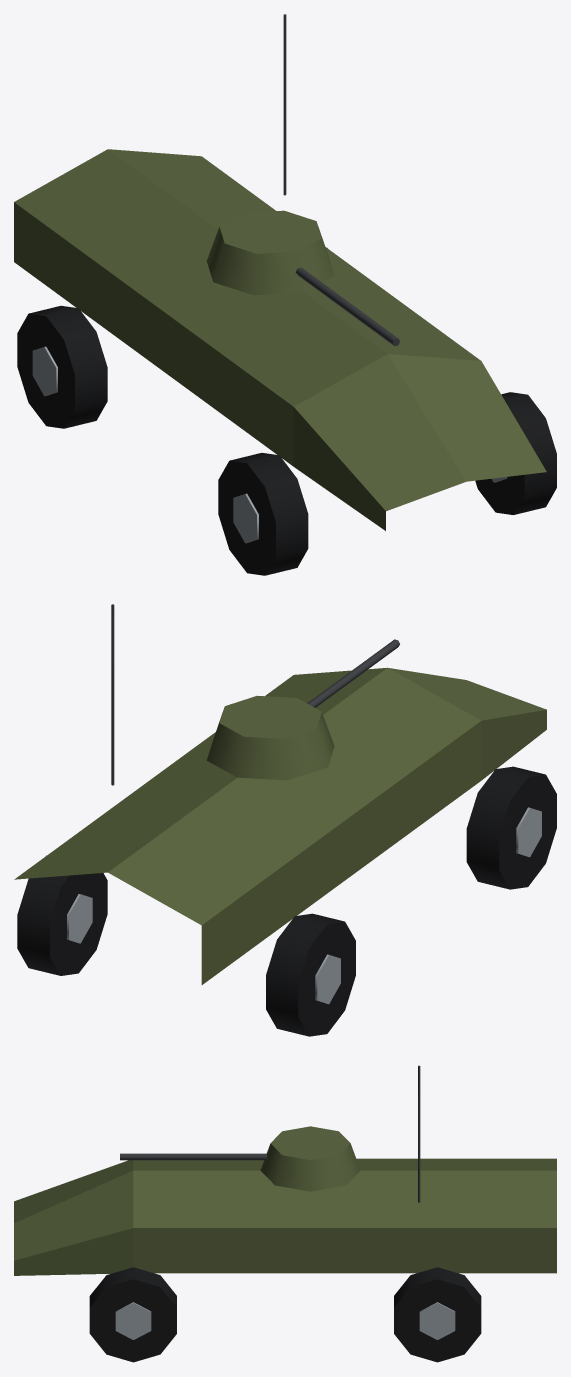
The model's file is veh_ground_scout_car_a08.glb.
3 views of the same model, one above another, from view 1: azimuth 30°, elevation 25°; view 2: azimuth 150°, elevation 25°; view 3: azimuth 270°, elevation 25° (orthographic). The views are drawn at different scales.
Parts seen in each view (by area): view 1: body, turret, wheel_0, wheel_2, wheel_3; view 2: body, turret, wheel_2, wheel_0, wheel_1; view 3: body, wheel_1, wheel_3, turret.
Part boxes in pixels (<box>): body: <box>14,14,546,530</box>; turret: <box>206,210,399,346</box>; wheel_0: <box>17,305,107,428</box>; wheel_2: <box>218,453,308,575</box>; wheel_3: <box>475,392,556,514</box>; body: <box>14,604,546,984</box>; turret: <box>207,639,399,780</box>; wheel_2: <box>466,766,556,889</box>; wheel_0: <box>266,913,355,1036</box>; wheel_1: <box>17,855,107,975</box>; body: <box>14,1065,556,1275</box>; wheel_1: <box>394,1267,481,1362</box>; wheel_3: <box>89,1267,176,1362</box>; turret: <box>120,1126,360,1191</box>.
Size of what is drawn, in the model's own units: 2.98 by 3.65 by 6.5.
